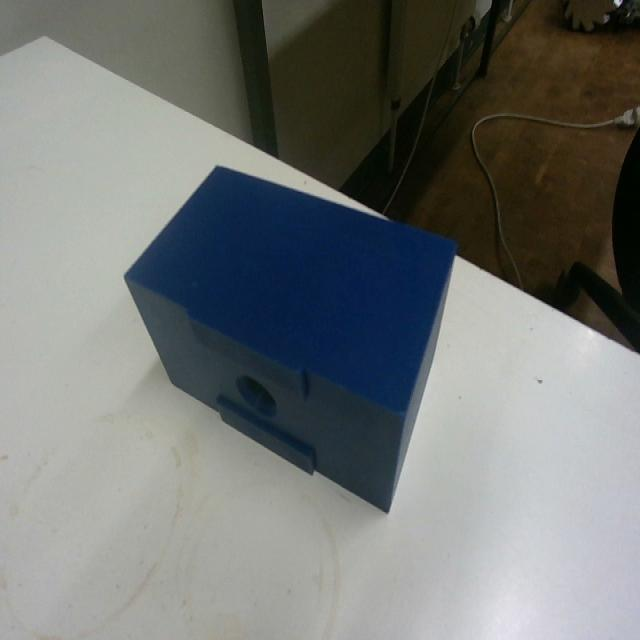Blue Cuboid: (122, 160, 459, 513)
